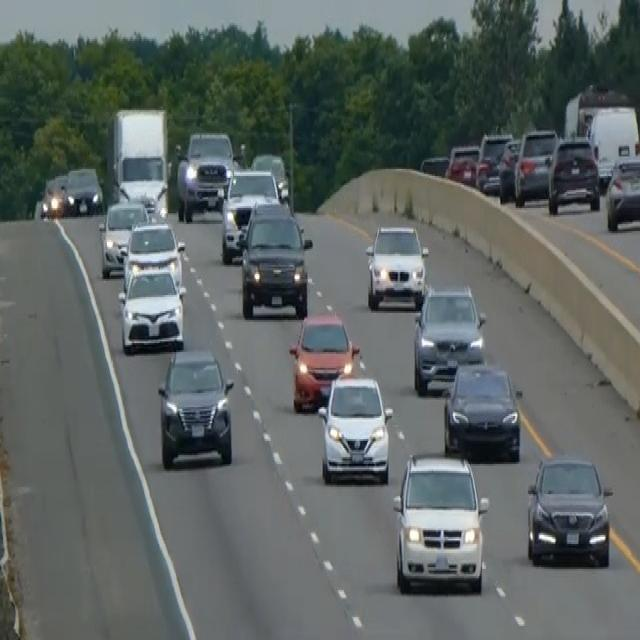car: (525, 453, 613, 567), (157, 345, 234, 469), (317, 370, 393, 485), (412, 281, 486, 395), (239, 204, 312, 318), (442, 359, 522, 461), (288, 310, 360, 412), (117, 263, 185, 354), (364, 220, 428, 310), (220, 167, 280, 263), (174, 128, 235, 220), (120, 217, 185, 291), (546, 133, 600, 215), (98, 198, 148, 278), (513, 126, 558, 206), (605, 153, 639, 231), (475, 130, 512, 194), (117, 176, 168, 220), (250, 149, 290, 203), (63, 164, 103, 215), (497, 135, 522, 203), (446, 142, 479, 187), (40, 174, 66, 219), (419, 153, 449, 178)
lorry: (105, 103, 171, 219)
minivan: (390, 446, 490, 596)
